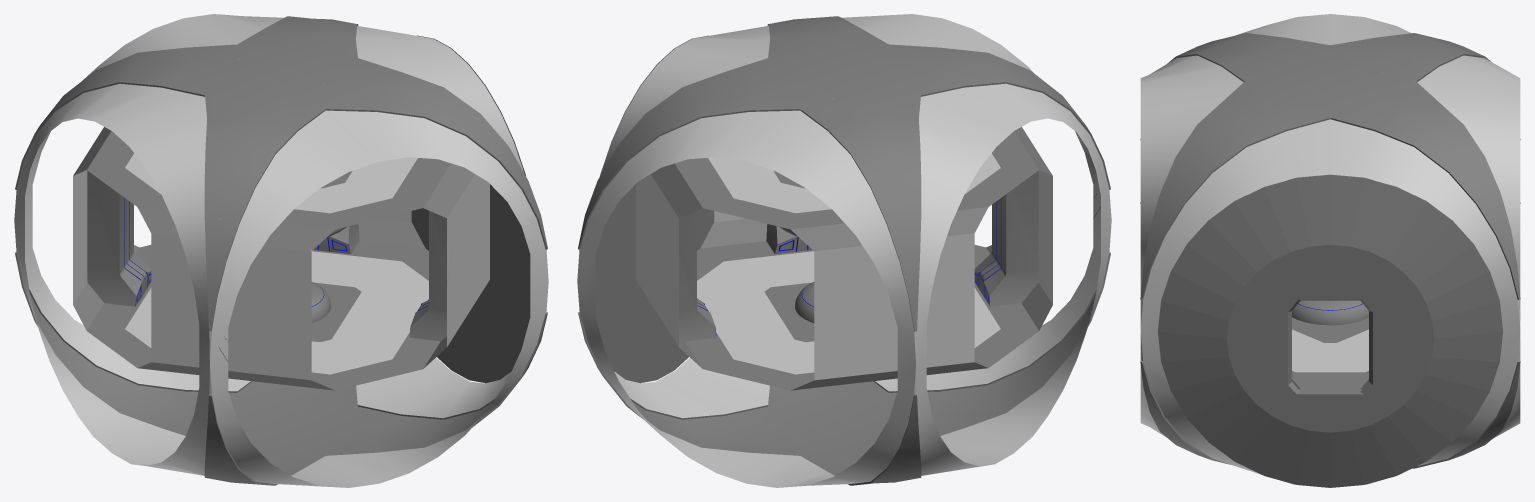
The model's file is HabReactor.fbx.
3 views of the same model, side by side, from view 1: azimuth 30°, elevation 25°; view 2: azimuth 150°, elevation 25°; view 3: azimuth 270°, elevation 25° (orthographic). The views are drawn at different scales.
Visible parts, largest first — view 1: HabReactor, MarcoPuerta, Columna.002, Columna, Columna.001, Reactor; view 2: HabReactor, MarcoPuerta, Columna.003, Columna.001, Columna, Reactor; view 3: HabReactor, MarcoPuerta, Reactor.
Part boxes in pixels (bbox=[...]): HabReactor: bbox=[14, 14, 548, 487]; MarcoPuerta: bbox=[411, 35, 530, 383]; Columna.002: bbox=[87, 170, 151, 306]; Columna: bbox=[409, 211, 446, 341]; Columna.001: bbox=[313, 224, 359, 254]; Reactor: bbox=[311, 226, 346, 322]; HabReactor: bbox=[577, 14, 1111, 487]; MarcoPuerta: bbox=[595, 35, 714, 383]; Columna.003: bbox=[974, 170, 1038, 306]; Columna.001: bbox=[679, 211, 716, 341]; Columna: bbox=[766, 224, 812, 254]; Reactor: bbox=[779, 226, 814, 322]; HabReactor: bbox=[1140, 14, 1520, 484]; MarcoPuerta: bbox=[1157, 175, 1503, 487]; Reactor: bbox=[1292, 300, 1368, 325].
Size of the model in its own units: 2306 by 2197 by 2202.
Materials: 4 (4 with a texture image).
